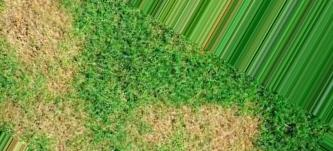patch: (12, 96, 84, 144), (119, 112, 203, 147), (12, 42, 84, 80), (216, 115, 255, 150), (17, 7, 65, 34), (193, 99, 236, 110)
